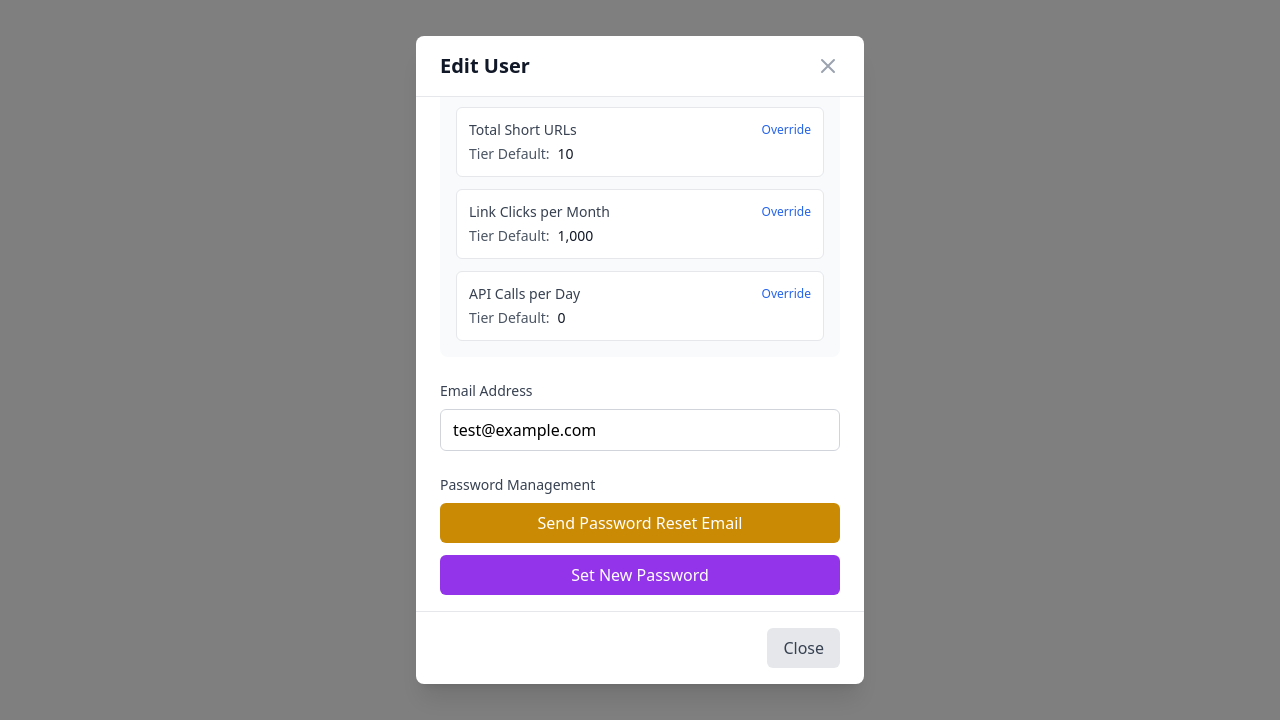
UserEditModal › Email validation rejects invalid formats › should show error for email without @ symbol
(page scrolled)
Replace the text in the field labelled "Email Address" with "invalidemail.com" at (640, 430), box x1=440 y1=409 x2=840 y2=451
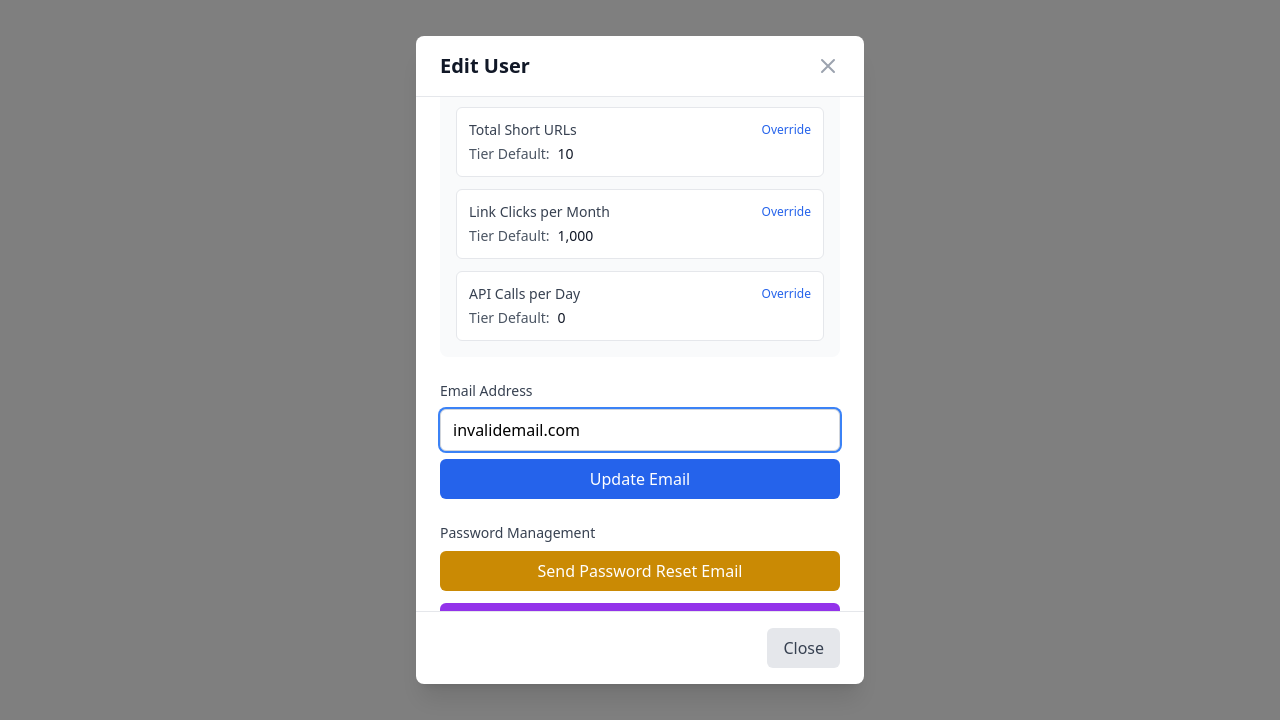
Click the button "Update Email" at (640, 479), box x1=440 y1=459 x2=840 y2=499
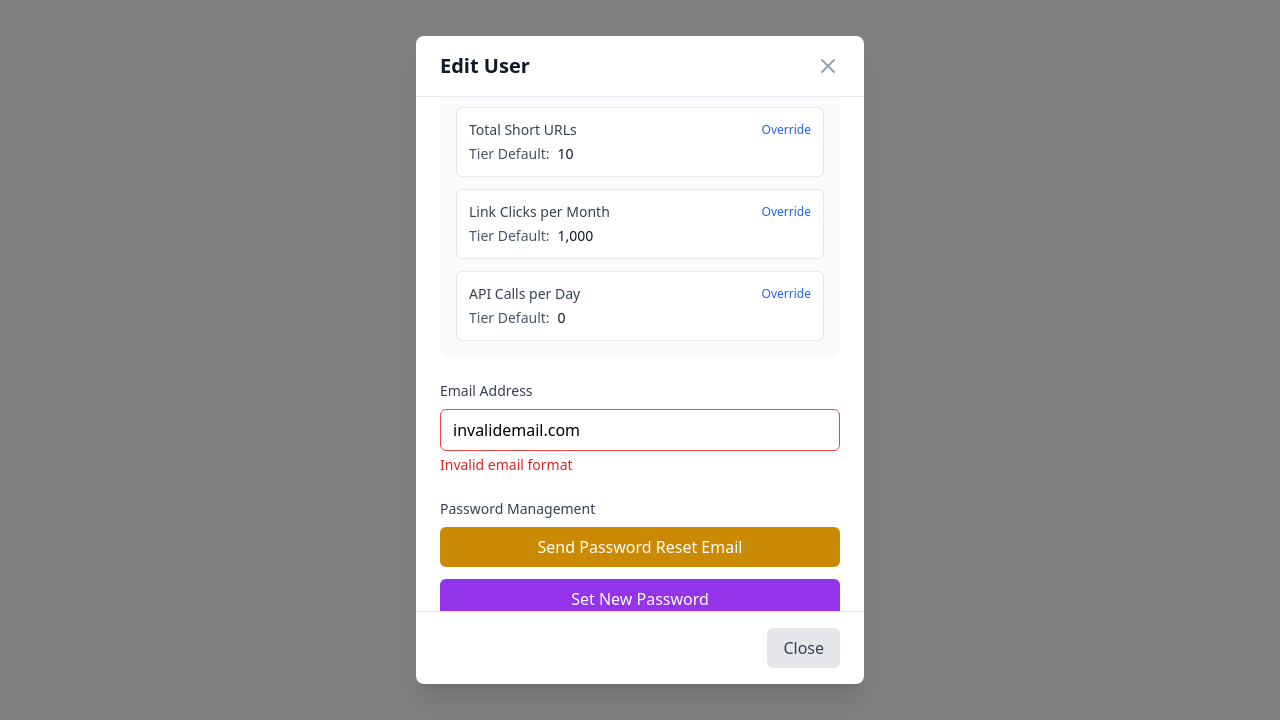
Expected: the text "Invalid email format" is shown, x1=440 y1=455 x2=573 y2=474
